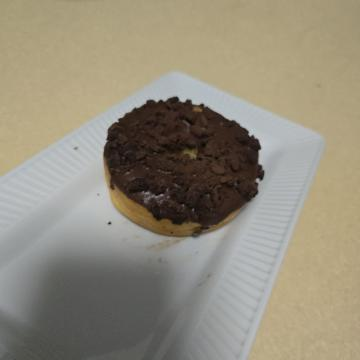doughnut: (83, 80, 249, 270)
